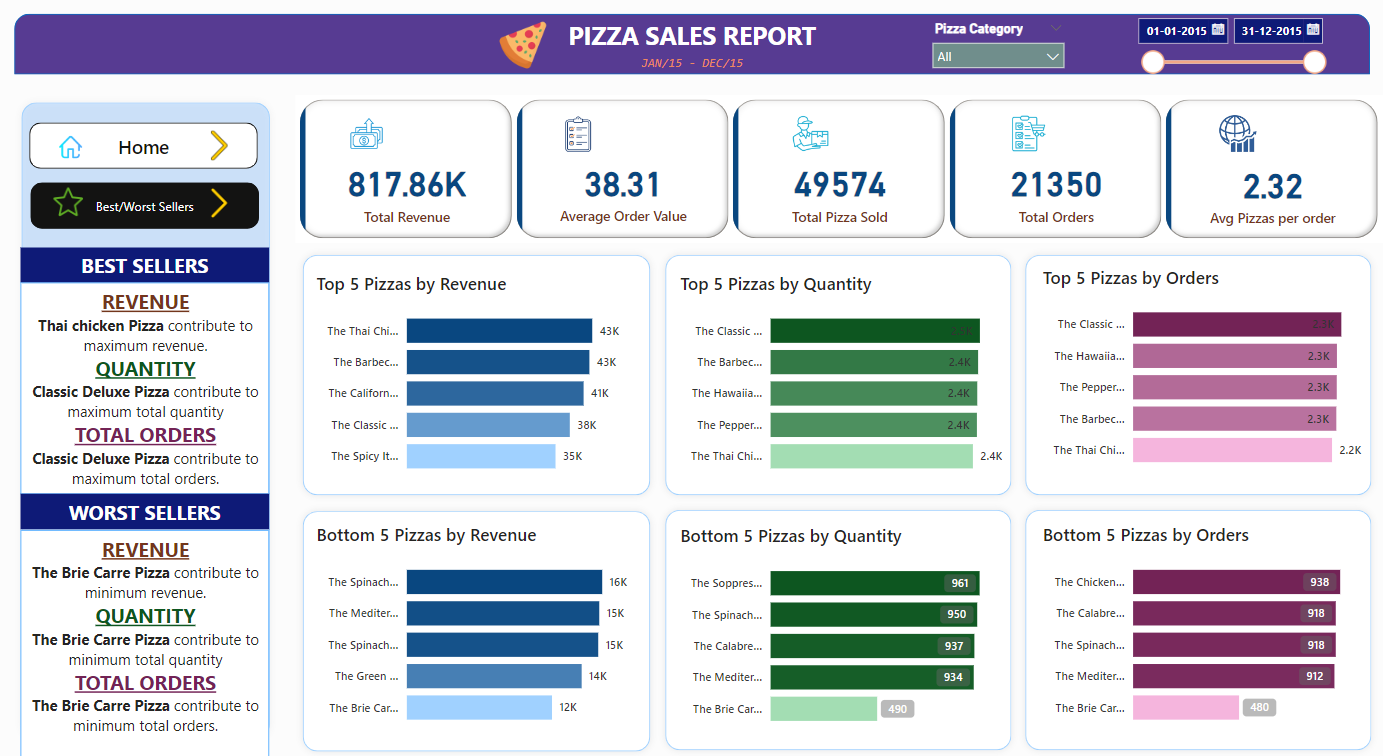

The dashboard page shown, as its layout file describes it:
{"tool":"powerbi","page":{"name":"Best/Worst Sellers","canvas":[1500,820],"ordinal":1},"visuals":[{"type":"cardVisual","fields":{"Data":["pizza_sales.Total Revenue","pizza_sales.Average Order Value","pizza_sales.Total Pizza Sold","pizza_sales.Total Orders","pizza_sales.Avg Pizzas per order"]},"box":[321.4,102.9,1178.6,160],"z":0},{"type":"shape","box":[17.1,14.3,1465.7,65.7],"z":1000},{"type":"textbox","box":[17.1,14.3,1465.7,55.7],"z":2000},{"type":"textbox","box":[17.1,52.9,1465.7,40],"z":3000},{"type":"image","box":[515.7,17.1,102.9,62.9],"z":4000},{"type":"shape","box":[321.4,267.1,391.4,275.7],"z":5000},{"type":"shape","box":[17.1,102.9,284.3,704.3],"z":6000},{"type":"textbox","box":[24.3,267.1,268.6,38.6],"z":7000},{"type":"textbox","box":[24.3,305.7,268.6,228.6],"z":8000},{"type":"textbox","box":[24.3,534.3,268.6,38.6],"z":9000},{"type":"textbox","box":[24.3,572.9,268.6,245.7],"z":10000},{"type":"slicer","fields":{"Values":["pizza_sales.pizza_category"]},"box":[1000,17.1,162.9,62.9],"z":11000},{"type":"slicer","fields":{"Values":["pizza_sales.order_date"]},"box":[1220,10,224.3,85.7],"z":12000},{"type":"shape","box":[712.9,267.1,390,275.7],"z":13000},{"type":"shape","box":[1102.9,267.1,390,275.7],"z":14000},{"type":"shape","box":[321.4,544.3,391.4,275.7],"z":15000},{"type":"shape","box":[712.9,542.9,390,275.7],"z":16000},{"type":"shape","box":[1102.9,542.9,390,275.7],"z":17000},{"type":"barChart","title":"Top 5 Pizzas by Revenue","fields":{"Category":["pizza_sales.pizza_name"],"Y":["pizza_sales.Total Revenue"]},"box":[338.6,292.9,358.6,232.9],"z":18000},{"type":"barChart","title":"Bottom 5 Pizzas by Revenue","fields":{"Category":["pizza_sales.pizza_name"],"Y":["pizza_sales.Total Revenue"]},"box":[338.6,564.3,358.6,232.9],"z":19000},{"type":"barChart","title":"Top 5 Pizzas by Quantity","fields":{"Category":["pizza_sales.pizza_name"],"Y":["pizza_sales.Total Pizza Sold"]},"box":[732.9,292.9,358.6,232.9],"z":20000},{"type":"barChart","title":"Top 5 Pizzas by Orders","fields":{"Category":["pizza_sales.pizza_name"],"Y":["pizza_sales.Total Orders"]},"box":[1124.3,287.1,358.6,232.9],"z":21000},{"type":"barChart","title":"Bottom 5 Pizzas by Orders","fields":{"Category":["pizza_sales.pizza_name"],"Y":["pizza_sales.Total Orders"]},"box":[1124.3,564.3,358.6,232.9],"z":22000},{"type":"barChart","title":"Bottom 5 Pizzas by Quantity","fields":{"Category":["pizza_sales.pizza_name"],"Y":["pizza_sales.Total Pizza Sold"]},"box":[732.9,565.7,358.6,232.9],"z":23000},{"type":"pageNavigator","box":[34.3,132.9,247.1,50],"z":24000},{"type":"pageNavigator","box":[35.7,197.1,247.1,50],"z":25000},{"type":"image","box":[58.6,141.4,40,34.3],"z":26000},{"type":"image","box":[52.9,197.1,45.7,41.4],"z":27000},{"type":"image","box":[217.1,137.1,42.9,41.4],"z":27001},{"type":"image","box":[217.1,198.6,42.9,41.4],"z":27002}]}

Visuals, with their boxes in screenshot pixels (x1, y1, x2, y2), scaled from the page's 1500x820 canvas onto the 1383x756 screenshot:
cardVisual - pizza_sales.Total Revenue x pizza_sales.Average Order Value: l=296, t=95, r=1382, b=242
shape: l=16, t=13, r=1367, b=74
textbox: l=16, t=13, r=1367, b=65
textbox: l=16, t=49, r=1367, b=86
image: l=475, t=16, r=570, b=74
shape: l=296, t=246, r=657, b=500
shape: l=16, t=95, r=278, b=744
textbox: l=22, t=246, r=270, b=282
textbox: l=22, t=282, r=270, b=493
textbox: l=22, t=493, r=270, b=528
textbox: l=22, t=528, r=270, b=755
slicer - pizza_sales.pizza_category: l=922, t=16, r=1072, b=74
slicer - pizza_sales.order_date: l=1125, t=9, r=1332, b=88
shape: l=657, t=246, r=1017, b=500
shape: l=1017, t=246, r=1376, b=500
shape: l=296, t=502, r=657, b=755
shape: l=657, t=501, r=1017, b=755
shape: l=1017, t=501, r=1376, b=755
"Top 5 Pizzas by Revenue" barChart: l=312, t=270, r=643, b=485
"Bottom 5 Pizzas by Revenue" barChart: l=312, t=520, r=643, b=735
"Top 5 Pizzas by Quantity" barChart: l=676, t=270, r=1006, b=485
"Top 5 Pizzas by Orders" barChart: l=1037, t=265, r=1367, b=479
"Bottom 5 Pizzas by Orders" barChart: l=1037, t=520, r=1367, b=735
"Bottom 5 Pizzas by Quantity" barChart: l=676, t=522, r=1006, b=736
pageNavigator: l=32, t=123, r=259, b=169
pageNavigator: l=33, t=182, r=261, b=228
image: l=54, t=130, r=91, b=162
image: l=49, t=182, r=91, b=220
image: l=200, t=126, r=240, b=165
image: l=200, t=183, r=240, b=221
